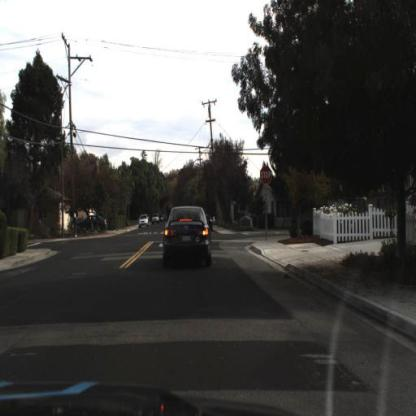car: (161, 206, 212, 266), (79, 215, 109, 234), (136, 207, 150, 230), (150, 209, 160, 227)
